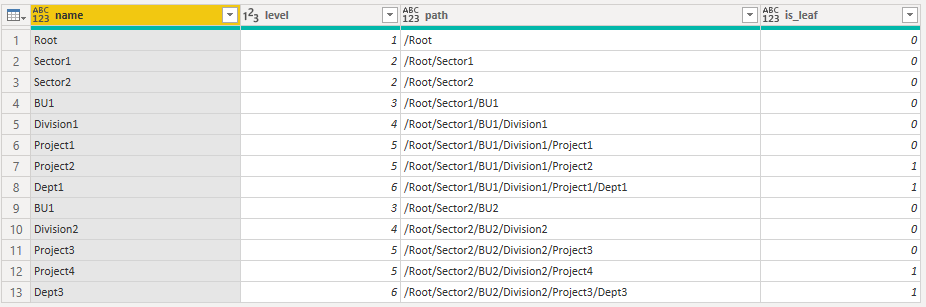

The page's visual inventory and layout, read from the dashboard file:
{"tool":"powerbi","page":{"name":"Page 1","canvas":[1280,720],"ordinal":0},"visuals":[{"type":"tableEx","fields":{"Values":["project.generation"]},"box":[9.7,0,1135.1,668.2],"z":0}]}

Visuals, with their boxes on the page's 1280x720 design canvas (x1, y1, x2, y2). These are canvas units, not pixel positions in the 926x307 screenshot, which may show the page scaled, cropped or inside an application window:
tableEx - project.generation: bbox=(10, 0, 1145, 668)
